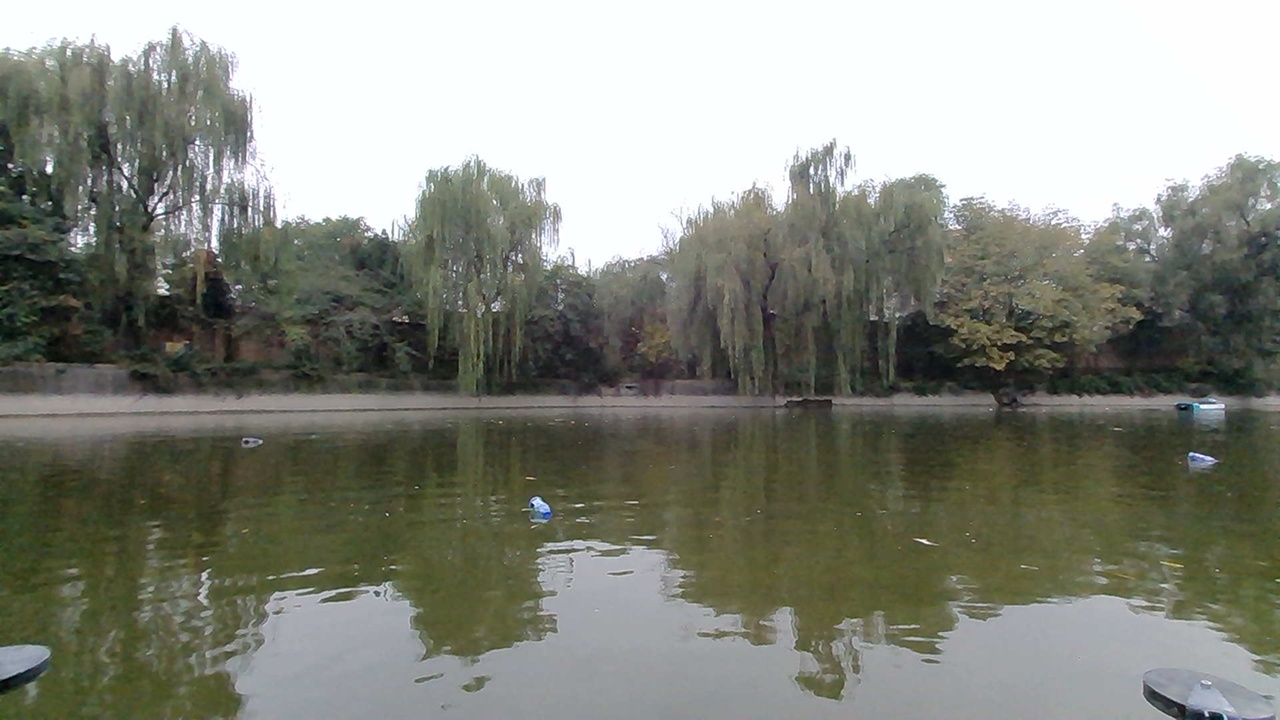bottle: (517, 492, 567, 529), (1179, 443, 1224, 477), (241, 421, 273, 455)
